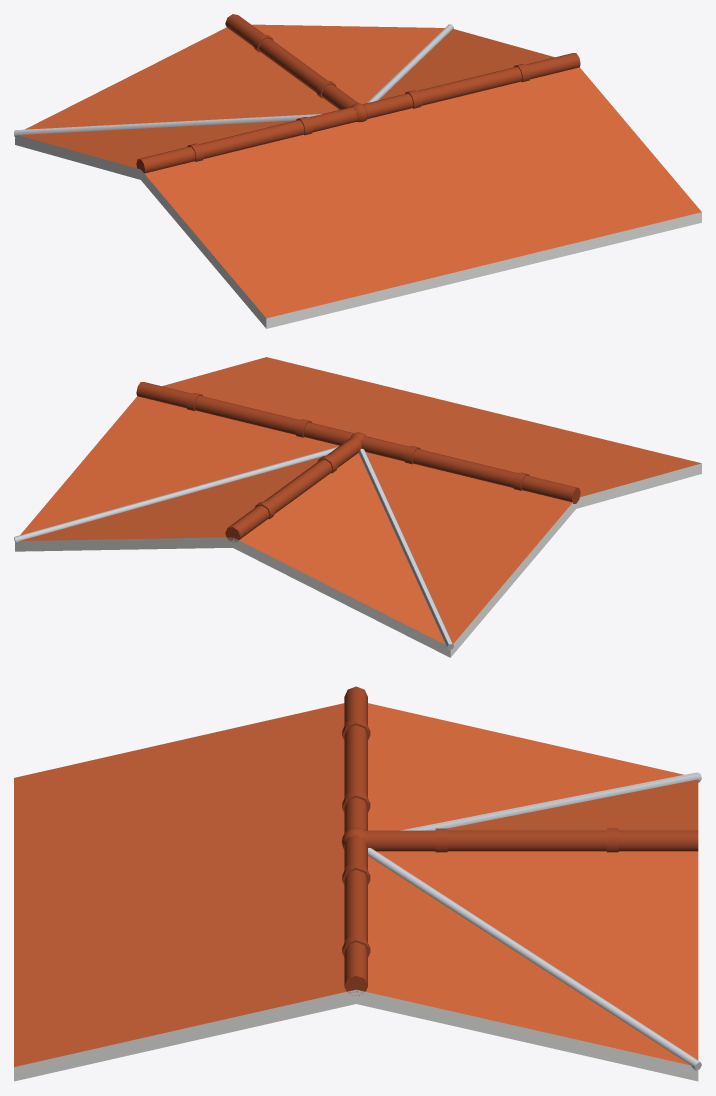
Rendered from telhado_encontro_t_v4_i25.glb.
3 views of the same model, one above another, from view 1: azimuth 30°, elevation 25°; view 2: azimuth 150°, elevation 25°; view 3: azimuth 270°, elevation 25° (orthographic). The views are drawn at different scales.
Visible parts, largest first — view 1: telhado_encontro_t_v4_i25; view 2: telhado_encontro_t_v4_i25; view 3: telhado_encontro_t_v4_i25.
Boxes of the visible parts, x1,y1,x2,y2 form: telhado_encontro_t_v4_i25: [14, 14, 701, 328]; telhado_encontro_t_v4_i25: [14, 357, 701, 657]; telhado_encontro_t_v4_i25: [14, 686, 701, 1081].
Bounding box in the file's own units: 4.04 × 0.6978 × 4.02.
Materials: 4 (1 with a texture image).
